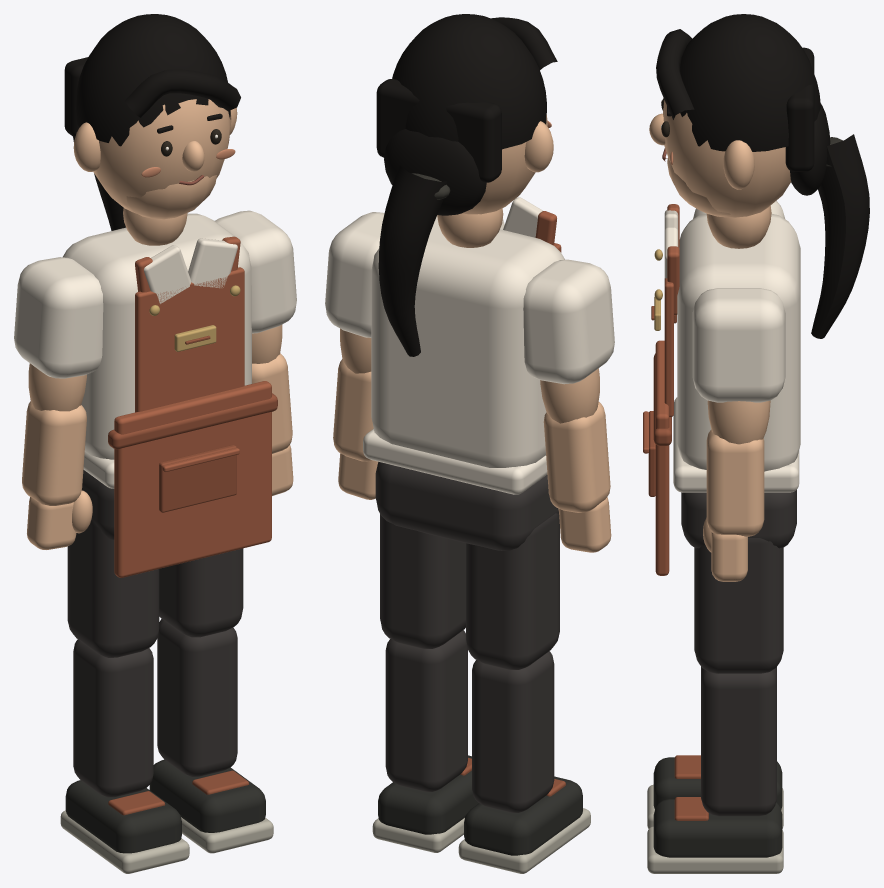
File: cashier-female.glb
3 renders of one model, left to right at view 1: azimuth 30°, elevation 25°; view 2: azimuth 150°, elevation 25°; view 3: azimuth 270°, elevation 25°, orthographic. The views are drawn at different scales.
Parts seen in each view (by area): view 1: Spine_crew_apron, Spine_crew_shirt, Head_crew_hair, Head_crew_skin, LeftKnee_crew_trousers, RightKnee_crew_trousers, LeftShoulder_crew_shirt, LeftHip_crew_trousers, RightHip_crew_trousers, Spine_crew_seam, LeftElbow_crew_skin, RightShoulder_crew_shirt (+15 smaller); view 2: Spine_crew_shirt, Head_crew_hair, LongHair_crew_hair, LeftKnee_crew_trousers, RightKnee_crew_trousers, LeftHip_crew_trousers, Hips_crew_trousers, LeftShoulder_crew_shirt, RightHip_crew_trousers, LeftElbow_crew_skin, RightShoulder_crew_shirt, LeftAnkle_crew_shoes (+11 smaller); view 3: Spine_crew_shirt, Head_crew_hair, RightKnee_crew_trousers, LongHair_crew_hair, RightHip_crew_trousers, RightShoulder_crew_shirt, Head_crew_skin, RightAnkle_crew_shoes, RightElbow_crew_skin, Spine_crew_apron, Hips_crew_trousers, RightAnkle_crew_soles (+7 smaller).
Boxes of the visible parts, x1,y1,x2,y2 form: Spine_crew_apron: [114, 236, 271, 577]; Spine_crew_shirt: [63, 213, 251, 488]; Head_crew_hair: [64, 14, 230, 146]; Head_crew_skin: [73, 99, 237, 219]; LeftKnee_crew_trousers: [73, 639, 153, 797]; RightKnee_crew_trousers: [157, 619, 237, 776]; LeftShoulder_crew_shirt: [14, 257, 103, 378]; LeftHip_crew_trousers: [67, 519, 159, 657]; RightHip_crew_trousers: [159, 548, 243, 637]; Spine_crew_seam: [108, 335, 277, 512]; LeftElbow_crew_skin: [22, 401, 86, 505]; RightShoulder_crew_shirt: [215, 210, 296, 333]; Spine_crew_shirt: [363, 197, 564, 494]; Head_crew_hair: [376, 14, 546, 182]; LongHair_crew_hair: [378, 17, 557, 356]; LeftKnee_crew_trousers: [472, 651, 554, 812]; RightKnee_crew_trousers: [385, 630, 467, 791]; LeftHip_crew_trousers: [466, 513, 559, 669]; Hips_crew_trousers: [375, 462, 558, 550]; LeftShoulder_crew_shirt: [523, 259, 614, 384]; RightHip_crew_trousers: [380, 514, 465, 648]; LeftElbow_crew_skin: [543, 402, 610, 512]; RightShoulder_crew_shirt: [325, 212, 384, 337]; LeftAnkle_crew_shoes: [464, 776, 582, 855]; Spine_crew_shirt: [664, 210, 800, 492]; Head_crew_hair: [667, 14, 820, 171]; RightKnee_crew_trousers: [701, 667, 776, 816]; LongHair_crew_hair: [656, 29, 869, 338]; RightHip_crew_trousers: [694, 538, 783, 673]; RightShoulder_crew_shirt: [692, 288, 785, 402]; Head_crew_skin: [649, 100, 791, 217]; RightAnkle_crew_shoes: [653, 799, 782, 857]; RightElbow_crew_skin: [706, 429, 764, 536]; Spine_crew_apron: [643, 204, 679, 575]; Hips_crew_trousers: [681, 490, 796, 548]; RightAnkle_crew_soles: [647, 826, 783, 873].
Bounding box in the file's own units: 0.5761 × 1.72 × 0.4323.
